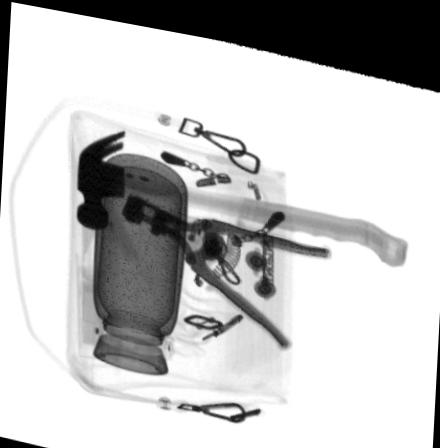Hammer: (76, 126, 409, 253)
Pliers: (120, 190, 331, 340)
